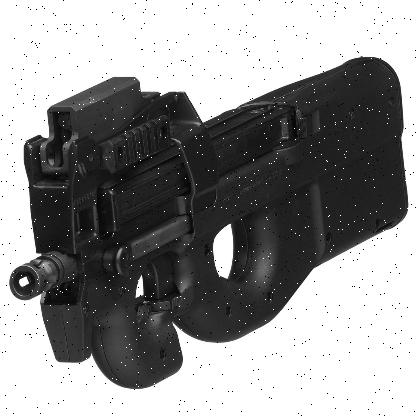gun: (8, 54, 408, 388)
